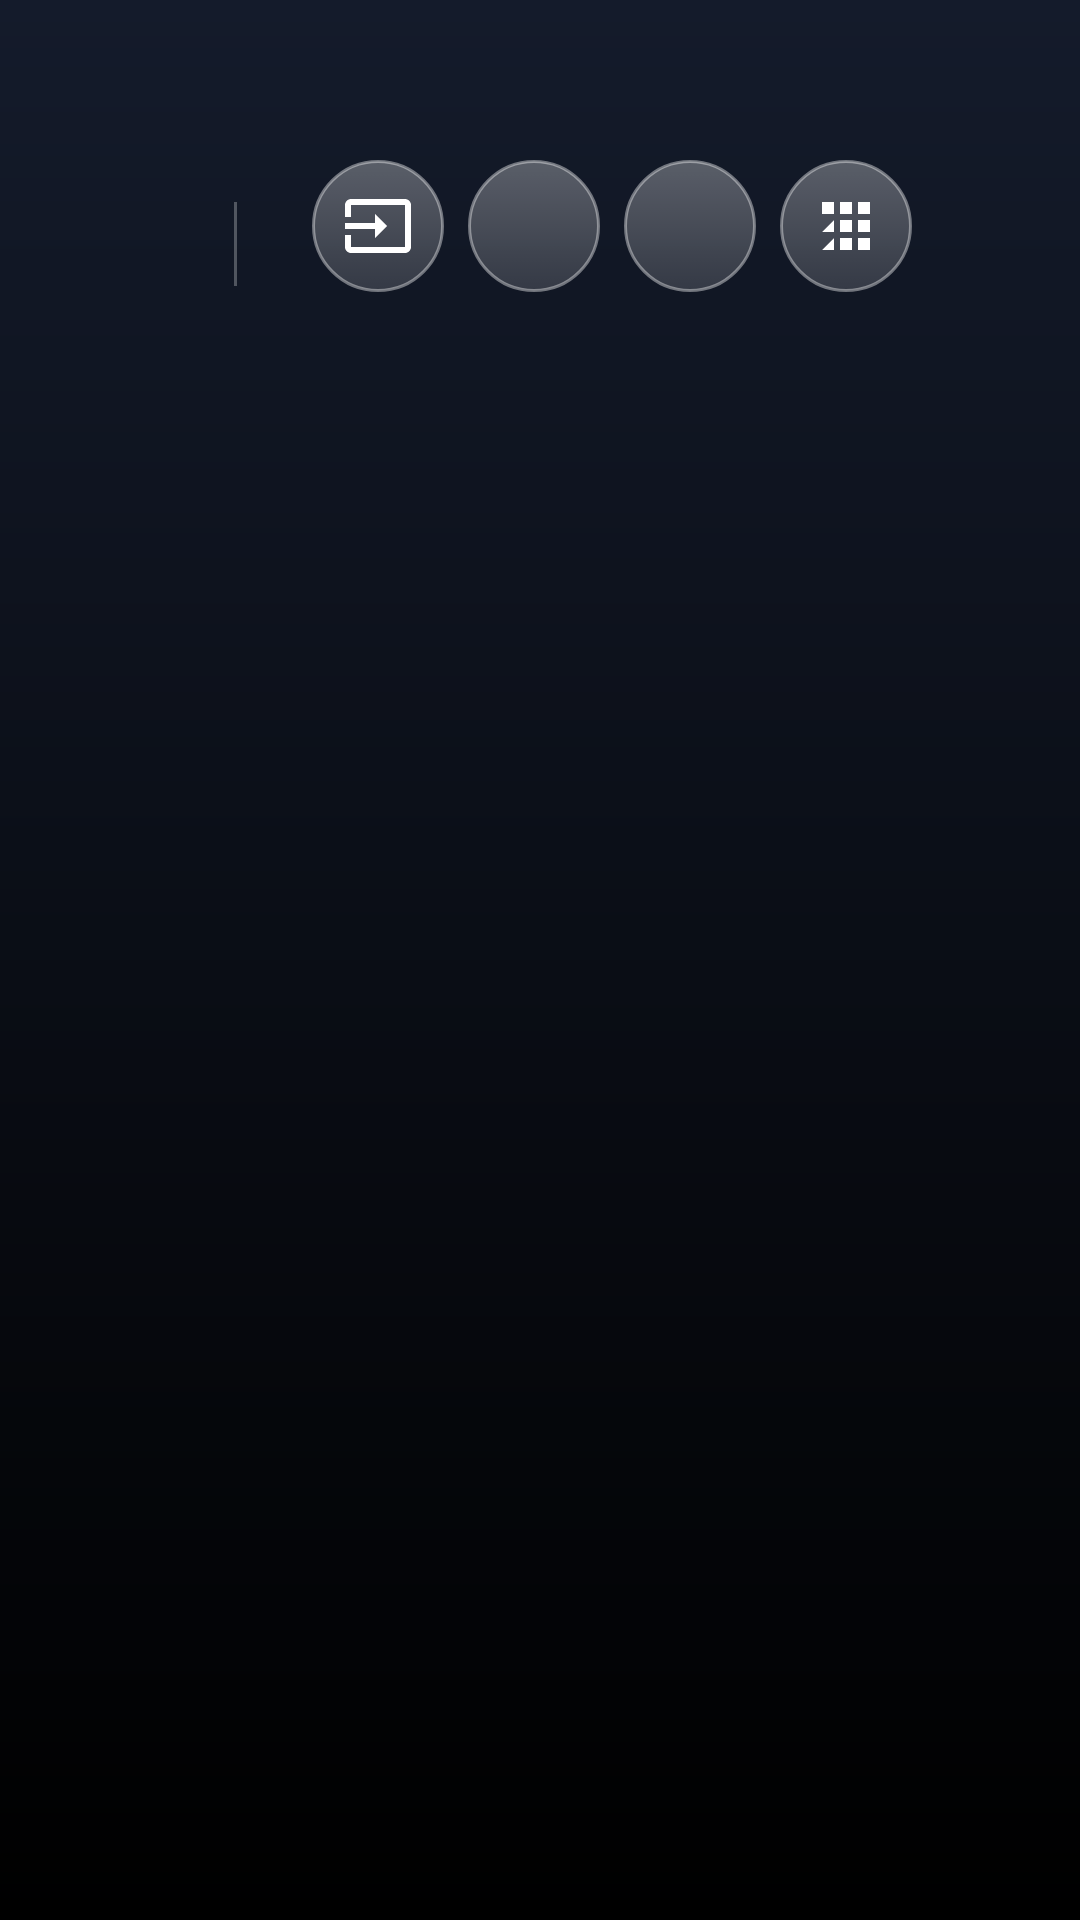

Point at icon controls on the screen. Image size 1080*1920, points as (x,y).
Apps: (846,226)
Inputs: (378,226)
